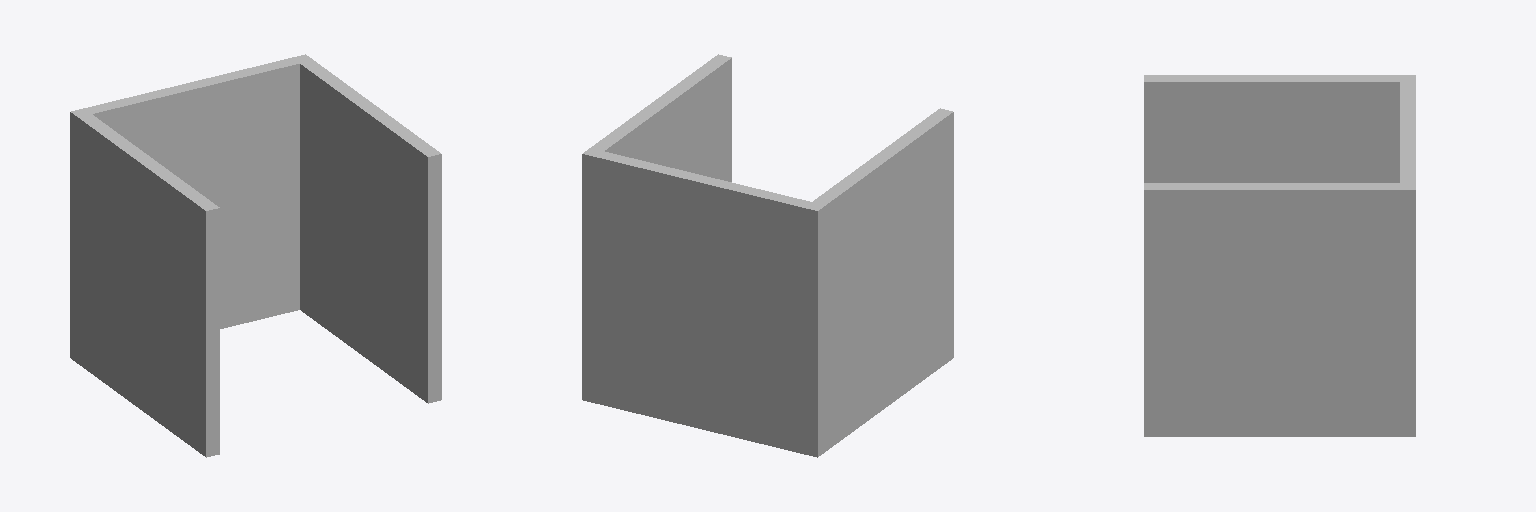
The model's file is straight.obj.
3 views of the same model, side by side, from view 1: azimuth 30°, elevation 25°; view 2: azimuth 150°, elevation 25°; view 3: azimuth 270°, elevation 25° (orthographic).
Size of the model in its own units: 17 by 17 by 17.